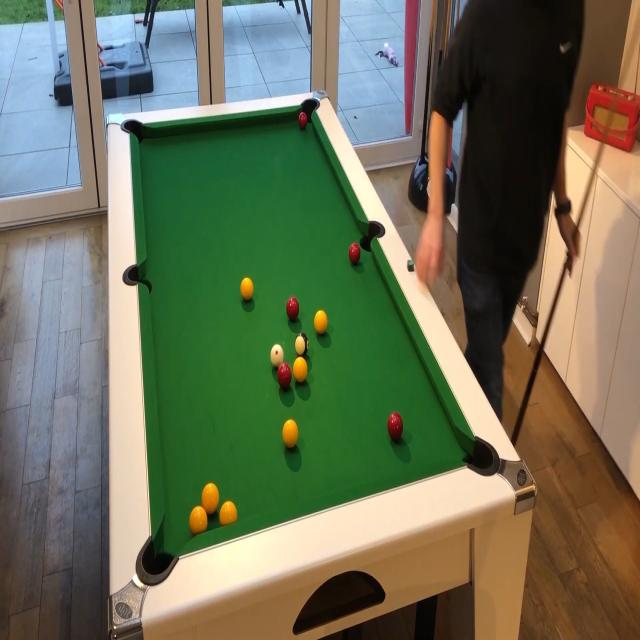Ball: (202, 483, 218, 515), (189, 507, 206, 536), (282, 419, 298, 448), (388, 411, 404, 440), (277, 362, 292, 388), (220, 501, 236, 525), (293, 358, 308, 383), (314, 310, 328, 334), (286, 297, 300, 321), (295, 332, 309, 356), (270, 345, 284, 366), (240, 278, 253, 300), (349, 242, 361, 265), (298, 112, 308, 130)
Billiard table: (107, 89, 537, 640)
